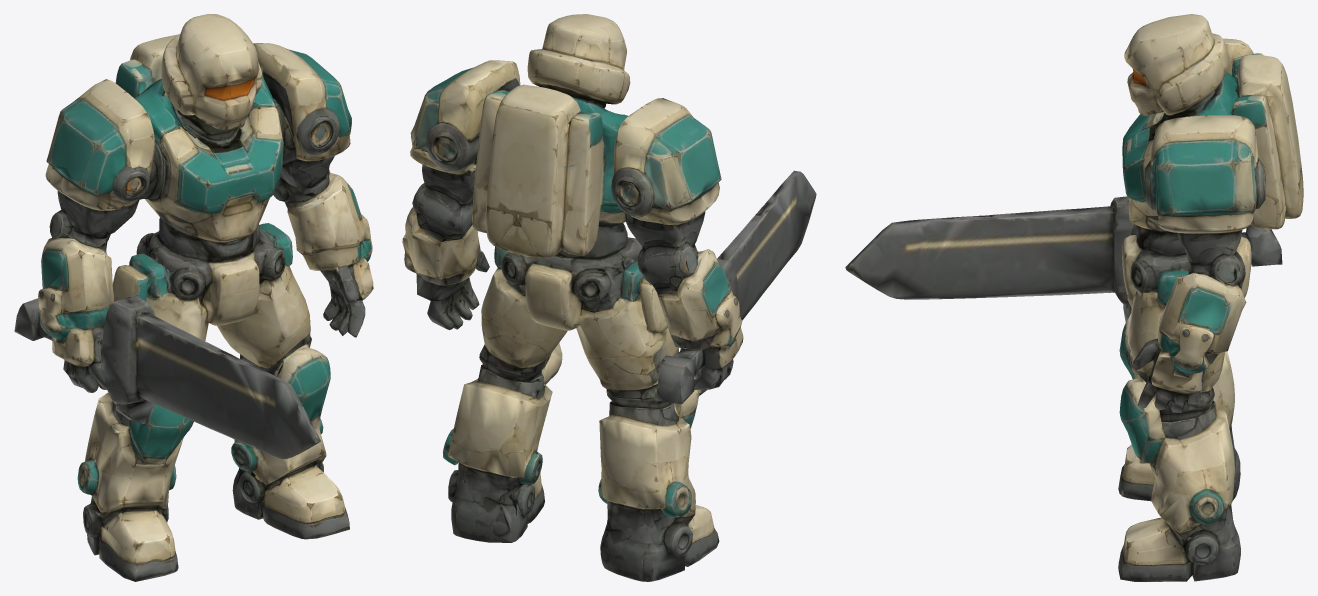
File: warrior.glb
3 views of the same model, side by side, from view 1: azimuth 30°, elevation 25°; view 2: azimuth 150°, elevation 25°; view 3: azimuth 270°, elevation 25° (orthographic). The views are drawn at different scales.
Size of the model in its own units: 1.25 by 1.9 by 1.55.
Materials: 1 (1 with a texture image).
